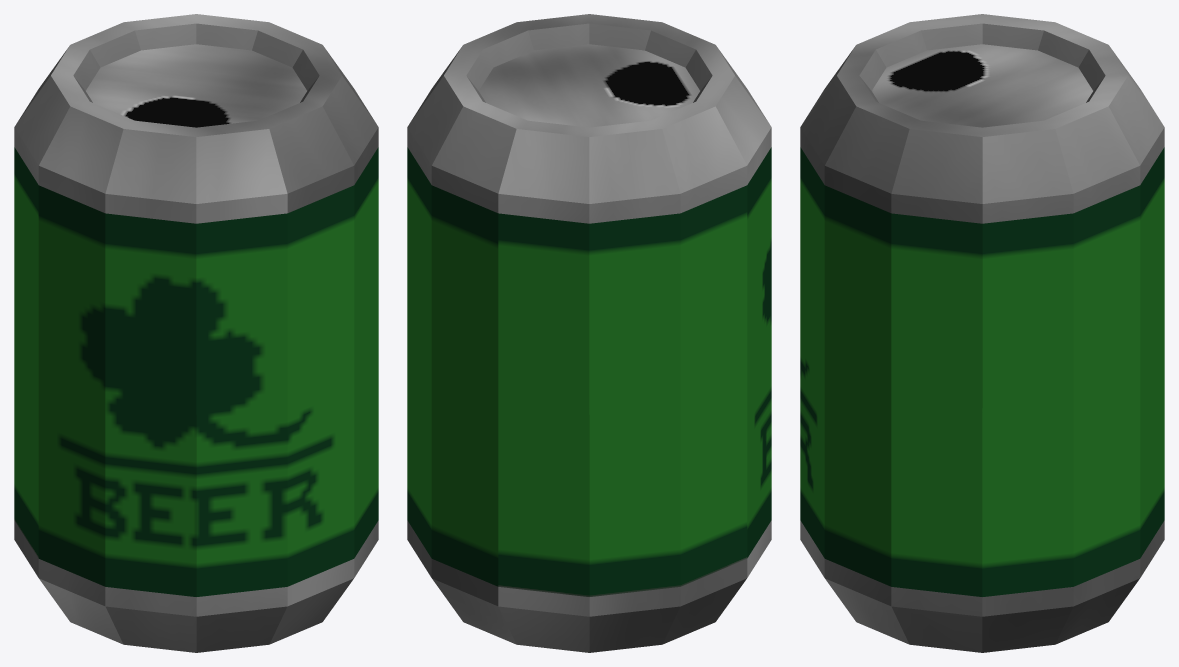
The model's file is beer.fbx.
The picture shows the model from 3 angles, left to right: view 1: azimuth 30°, elevation 25°; view 2: azimuth 150°, elevation 25°; view 3: azimuth 270°, elevation 25°; orthographic projection.
Parts seen in each view (by area): view 1: Cylinder; view 2: Cylinder; view 3: Cylinder.
Part boxes in pixels (bbox=[...]): Cylinder: bbox=[14, 14, 378, 652]; Cylinder: bbox=[407, 14, 771, 652]; Cylinder: bbox=[800, 14, 1164, 652].
Bounding box in the file's own units: 64 × 100 × 64.
1 material, 1 textured.
